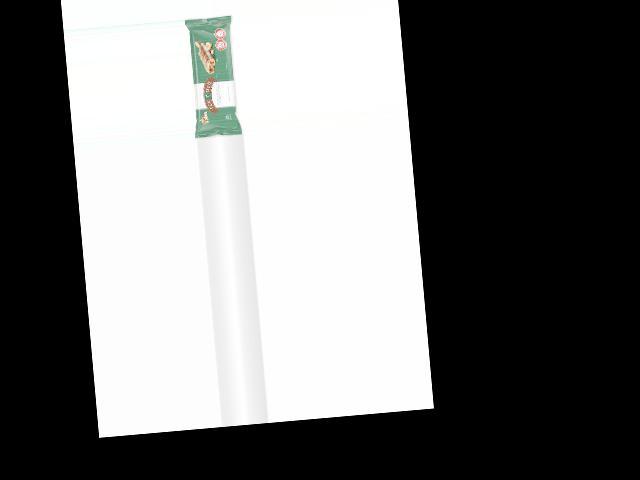chocolate: (184, 14, 244, 140)
